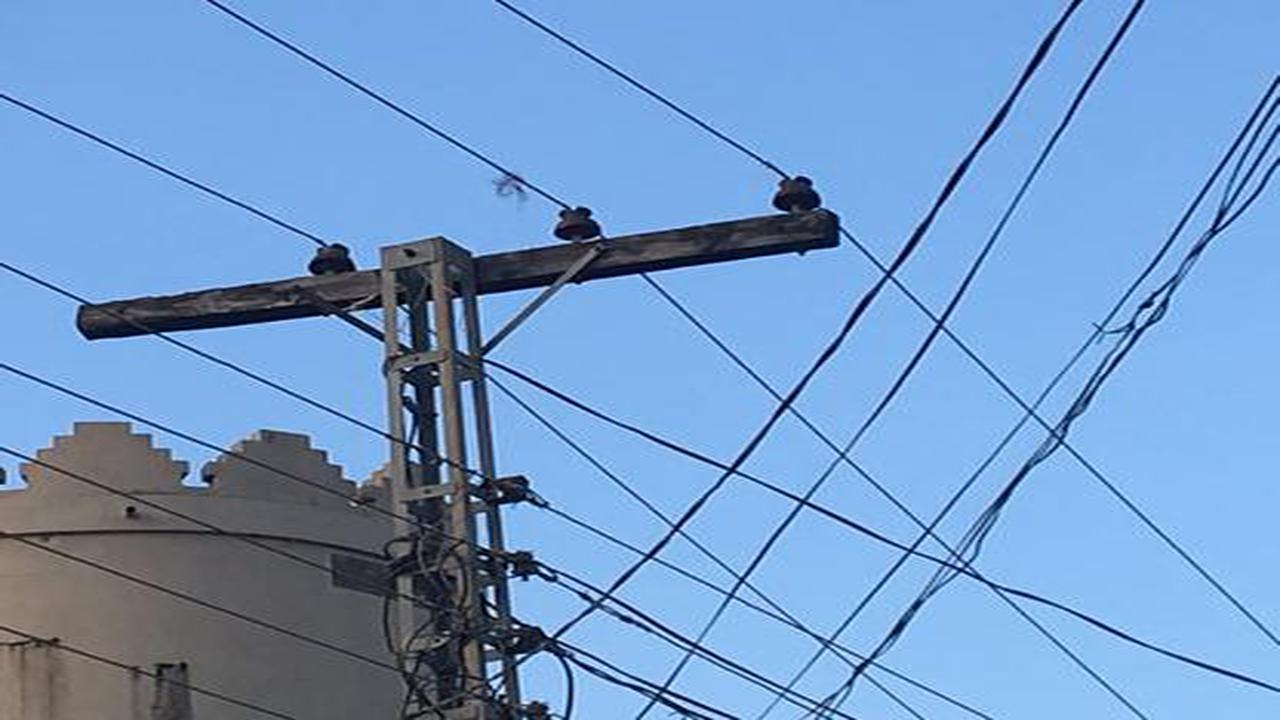insulator_pin: (548, 201, 603, 245), (768, 174, 824, 217), (310, 237, 358, 279)
